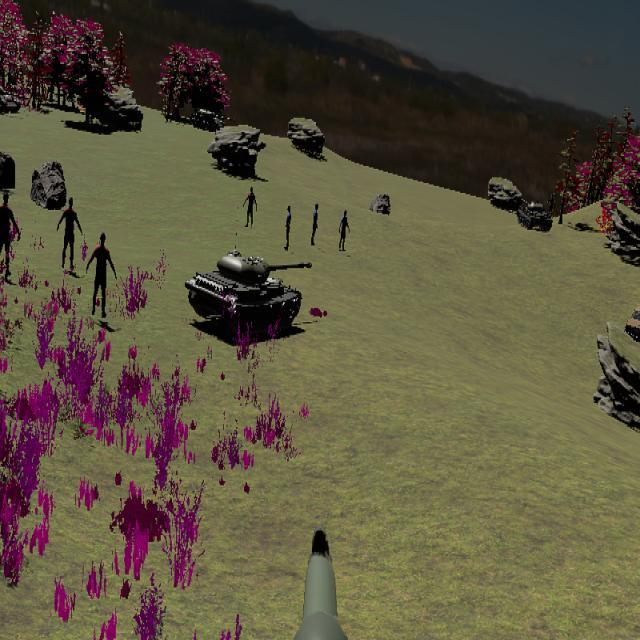Tank: (184, 249, 312, 338)
car: (624, 306, 640, 348)
